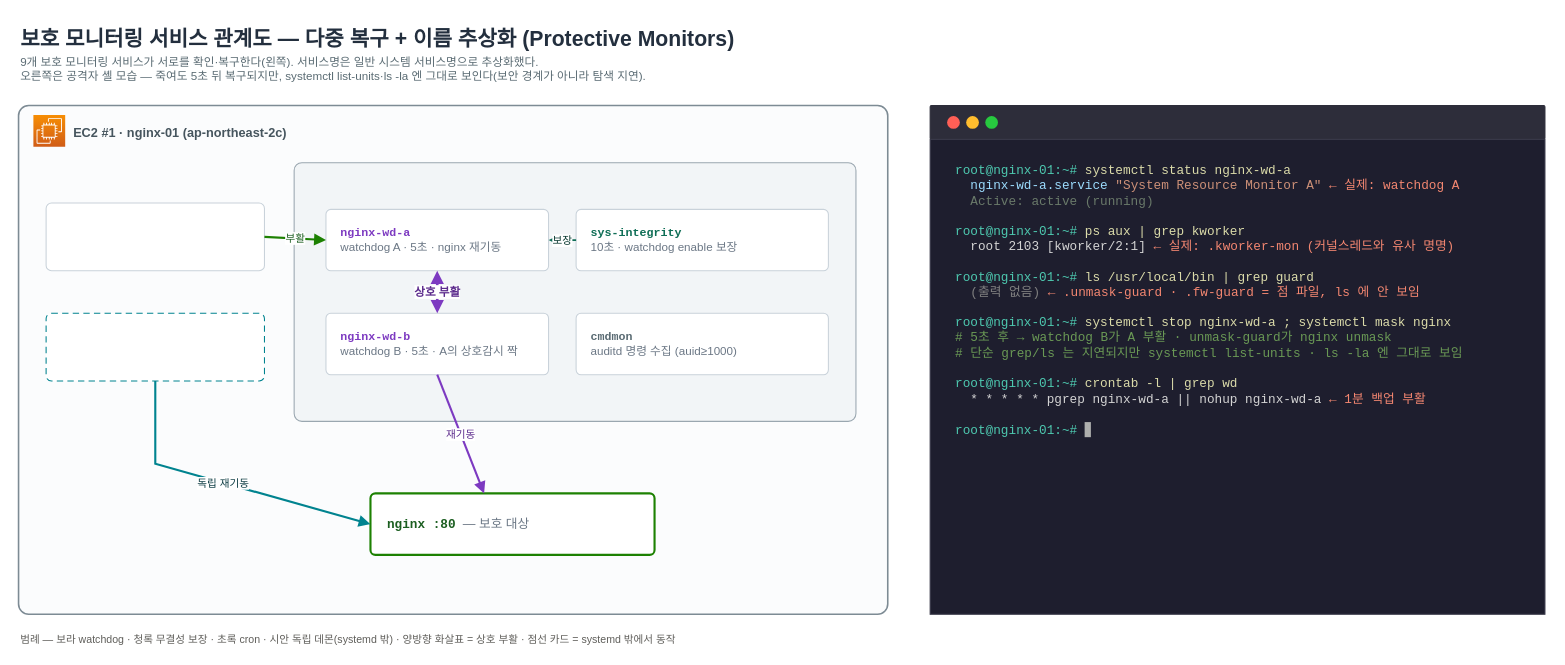
This 1565x665 diagram has some shape labels left out. Each missing label, with the box of its shape:
.kworker-mon 3초 · systemd 밖 · nohup 재기동: (45, 312, 264, 381)
cron-guard 1분 · nginx · watchdog · kworker 부활: (45, 202, 264, 271)
root@nginx-01: ~ — bash: (929, 104, 1545, 139)
systemd (PID 1) · override Restart=always: (293, 162, 856, 421)
